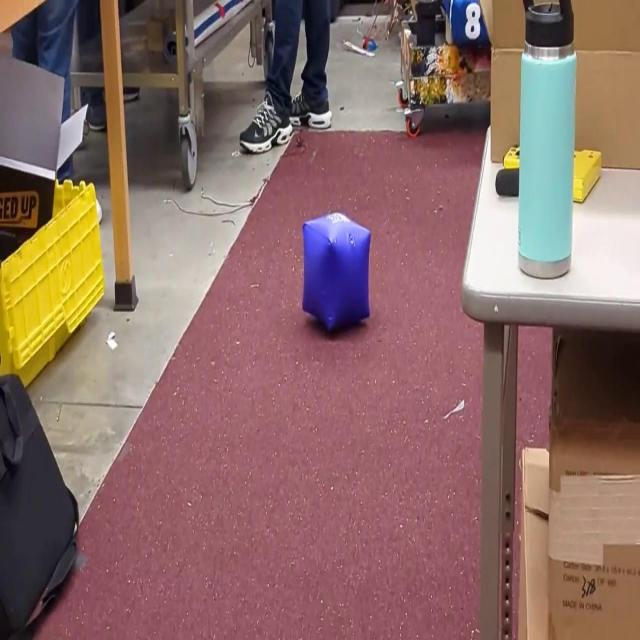frc_cube: (300, 211, 372, 337)
